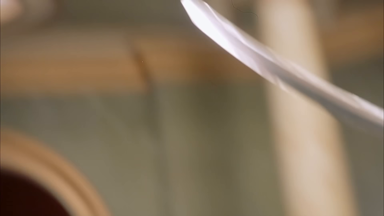bladed_weapon: (178, 1, 383, 137)
